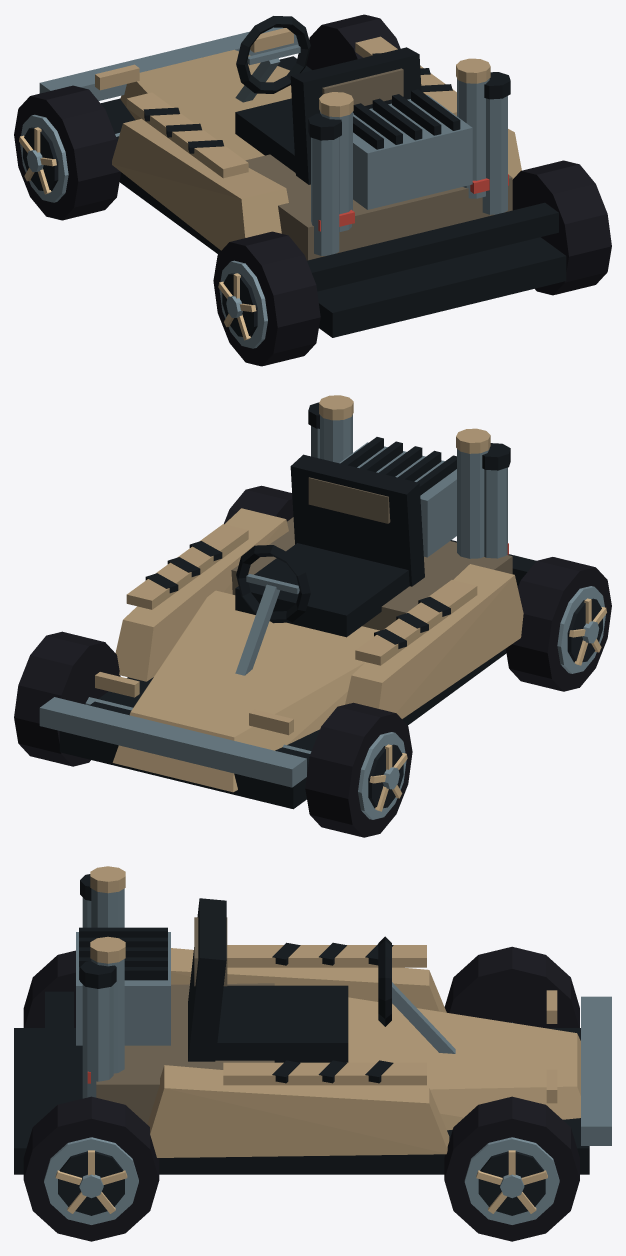
File: kart.glb
The picture shows the model from 3 angles, top to bottom: view 1: azimuth 30°, elevation 25°; view 2: azimuth 150°, elevation 25°; view 3: azimuth 270°, elevation 25°; orthographic projection. The views are drawn at different scales.
Parts seen in each view (by area): view 1: chassis, wheel-rear-left, wheel-front-left, wheel-rear-right, wheel-front-right; view 2: chassis, wheel-front-left, wheel-rear-left, wheel-front-right, wheel-rear-right; view 3: chassis, wheel-front-right, wheel-rear-right, wheel-front-left, wheel-rear-left.
Boxes of the visible parts, <box> form: chassis: <box>39,16,566,337</box>; wheel-rear-left: <box>213,231,320,366</box>; wheel-front-left: <box>14,85,120,220</box>; wheel-rear-right: <box>512,160,611,295</box>; wheel-front-right: <box>306,14,400,69</box>; chassis: <box>39,395,536,809</box>; wheel-front-left: <box>305,702,412,837</box>; wheel-rear-left: <box>505,557,611,691</box>; wheel-front-right: <box>14,631,120,766</box>; wheel-rear-right: <box>224,485,293,524</box>; chassis: <box>14,866,611,1174</box>; wheel-front-right: <box>444,1096,579,1241</box>; wheel-rear-right: <box>23,1096,159,1241</box>; wheel-front-left: <box>444,946,579,1027</box>; wheel-rear-left: <box>23,950,75,1027</box>.
Bounding box in the file's own units: 2.27 × 1.4 × 3.09.
